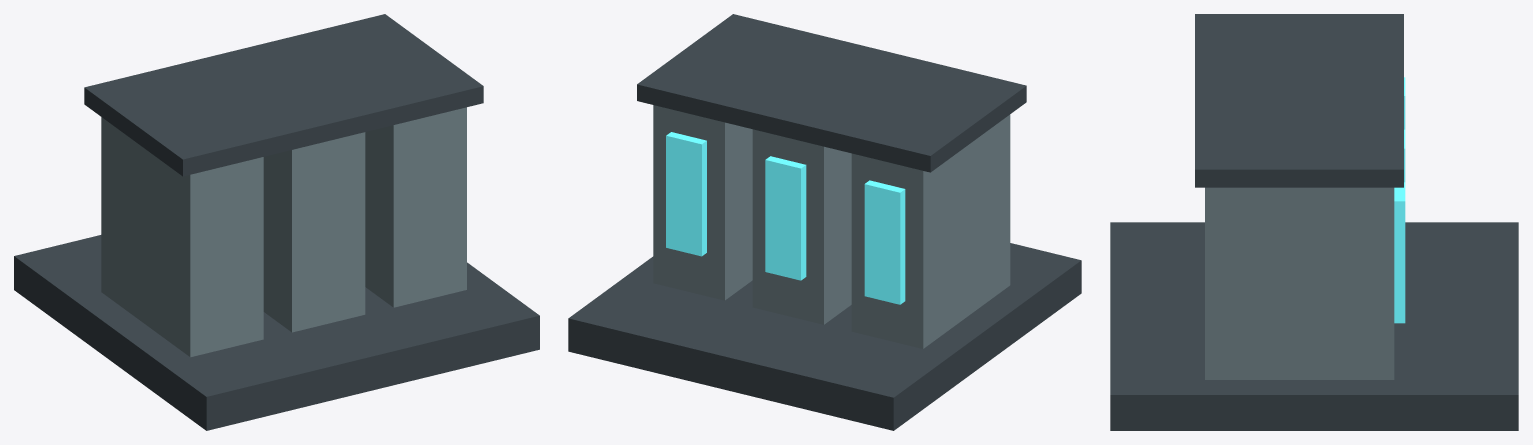
File: Narrative-soul_archive.glb
3 views of the same model, side by side, from view 1: azimuth 30°, elevation 25°; view 2: azimuth 150°, elevation 25°; view 3: azimuth 270°, elevation 25° (orthographic). The views are drawn at different scales.
Parts seen in each view (by area): view 1: Base, Header, RecordHousing, RecordHousing.001, RecordHousing.002; view 2: Base, Header, RecordHousing, RecordHousing.001, RecordHousing.002, RecordWindow.001, RecordWindow, RecordWindow.002; view 3: Base, RecordHousing.002, Header, RecordWindow.002.
Part boxes in pixels (x1,y1,x2,y2): Base: (14,235,539,430); Header: (84,14,483,176); RecordHousing: (101,117,263,357); RecordHousing.001: (263,132,365,332); RecordHousing.002: (365,107,466,307); Base: (568,243,1081,430); Header: (637,14,1026,172); RecordHousing: (851,114,1010,348); RecordHousing.001: (752,129,851,324); RecordHousing.002: (653,105,752,300); RecordWindow.001: (765,156,806,280); RecordWindow: (864,180,905,304); RecordWindow.002: (666,132,706,256); Base: (1110,222,1518,430); RecordHousing.002: (1205,187,1394,379); Header: (1195,14,1403,187); RecordWindow.002: (1394,182,1405,323).
Size of the model in its own units: 1.64 by 1.12 by 1.64.
